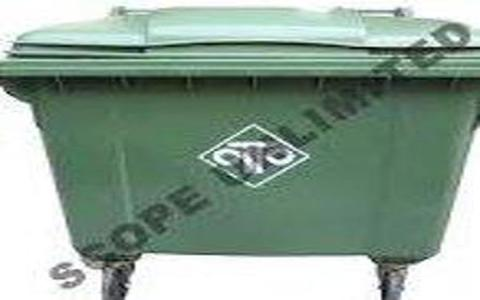Proper garbage: (1, 1, 473, 289)
